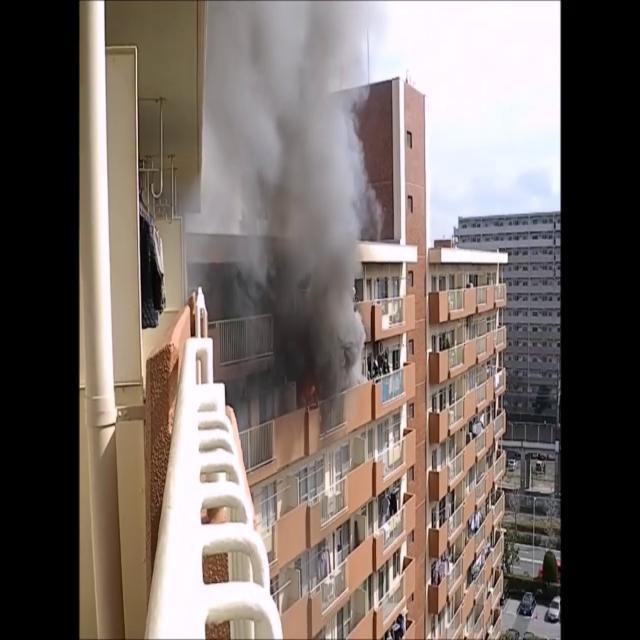Smoke: (188, 1, 374, 412)
